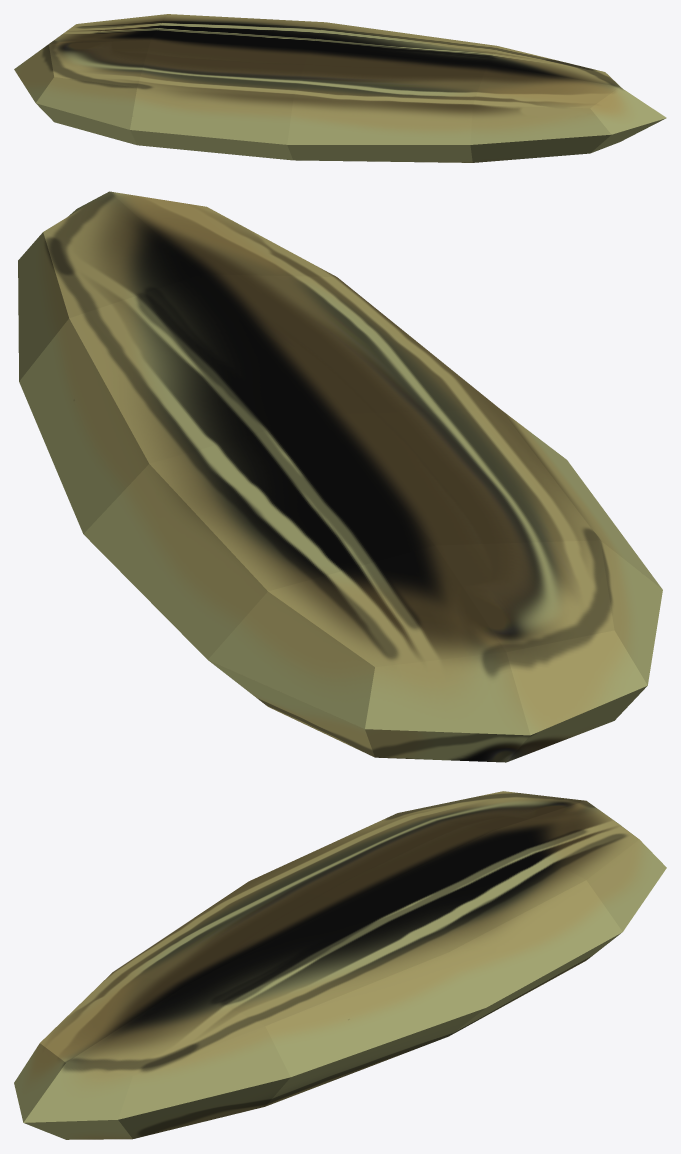
Rendered from Seed.fbx.
3 renders of one model, top to bottom at view 1: azimuth 30°, elevation 25°; view 2: azimuth 150°, elevation 25°; view 3: azimuth 270°, elevation 25°, orthographic. The views are drawn at different scales.
Parts seen in each view (by area): view 1: Cube.006; view 2: Cube.006; view 3: Cube.006.
Boxes of the visible parts, x1,y1,x2,y2 form: Cube.006: [14, 14, 666, 162]; Cube.006: [18, 191, 662, 762]; Cube.006: [14, 791, 666, 1139].
Bounding box in the file's own units: 54.99 × 9.5 × 48.61.
Materials: 1 (1 with a texture image).
